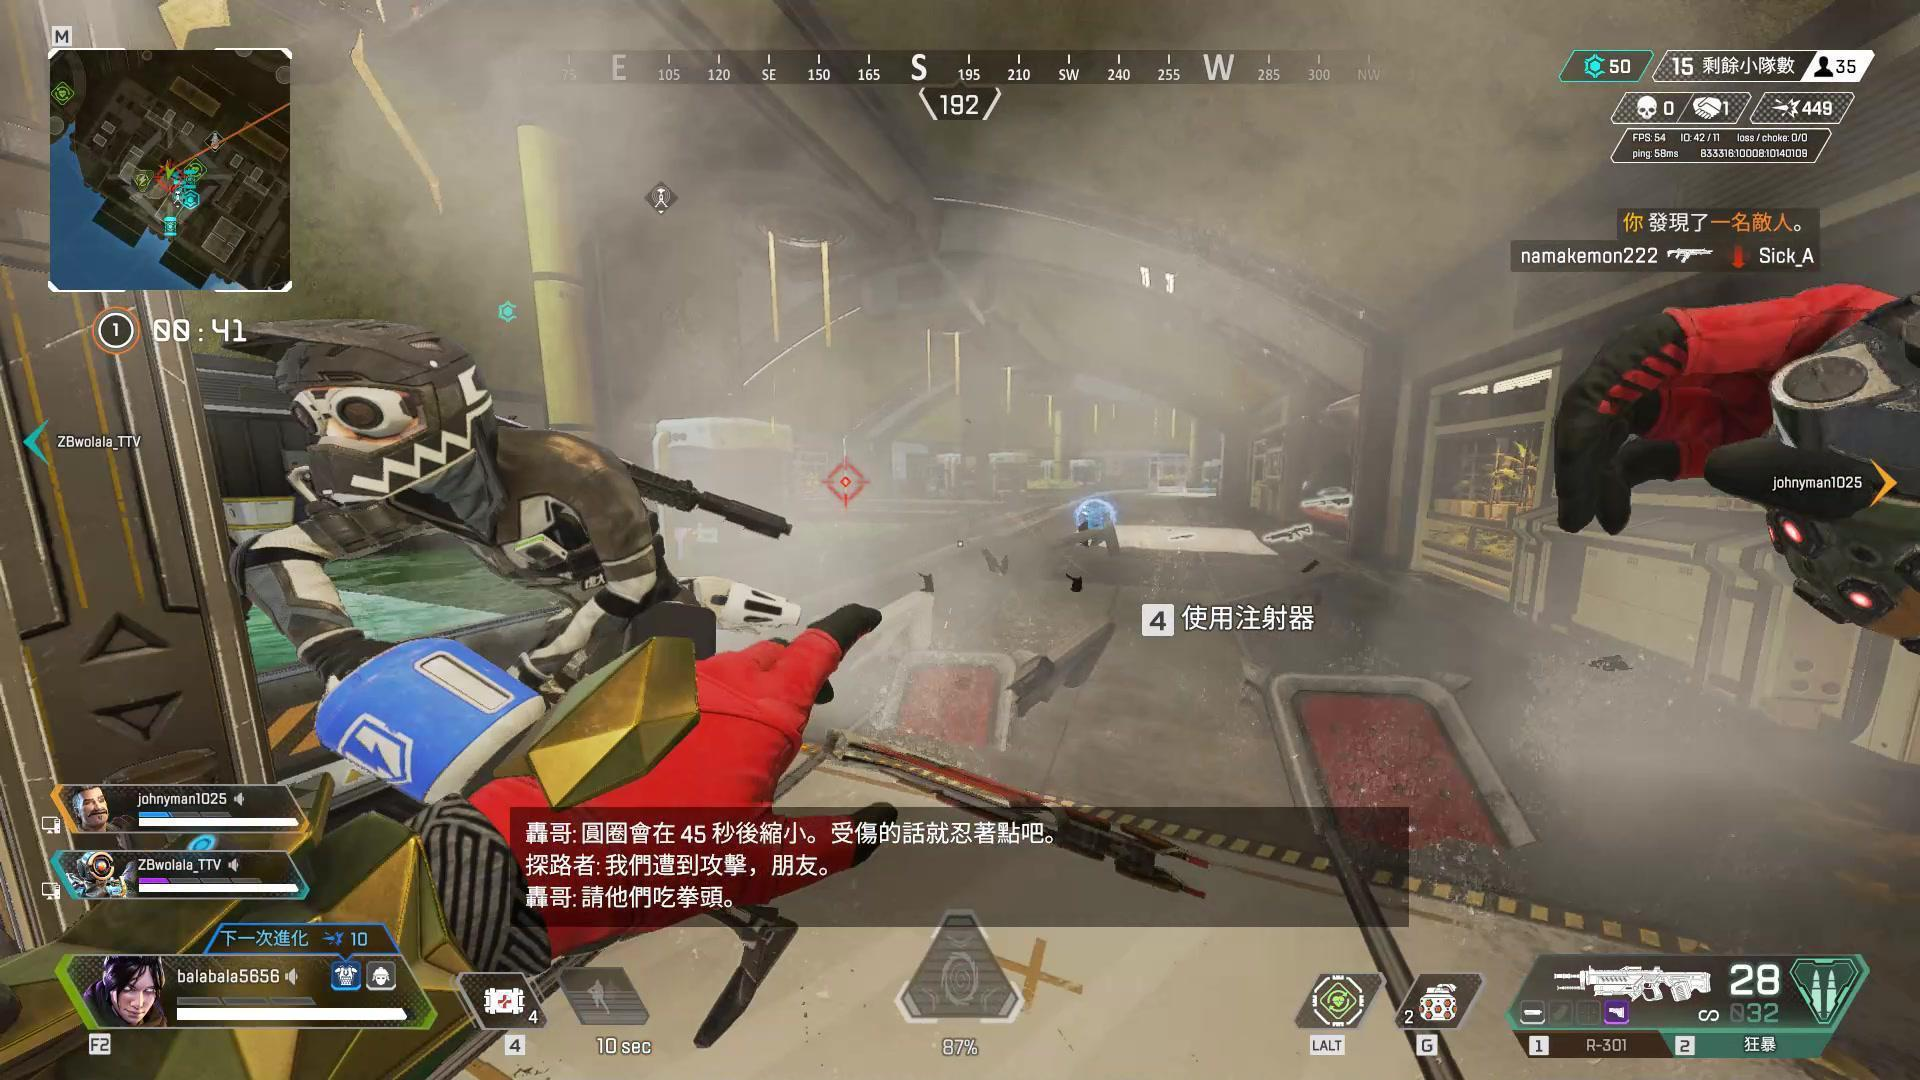avatar: (216, 312, 670, 642)
